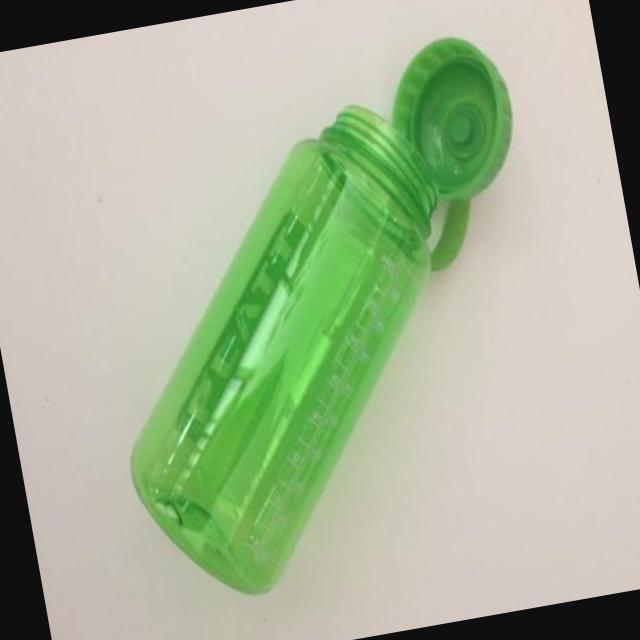bottle: (132, 39, 510, 593)
